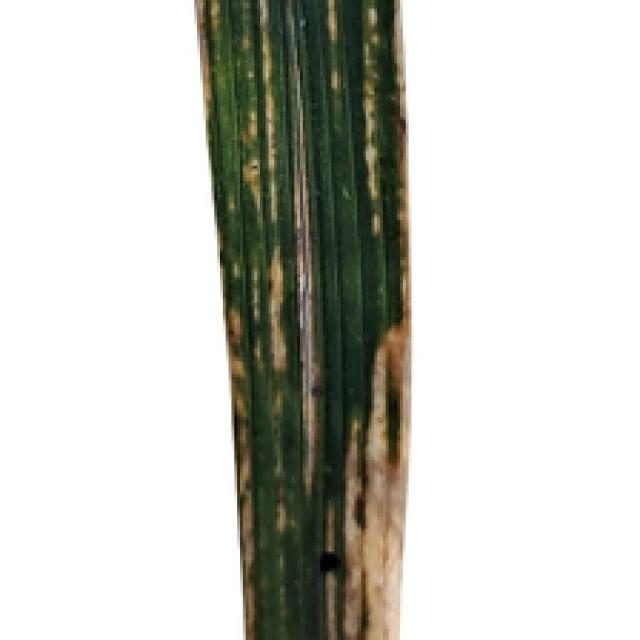Rice___Bacterial_Leaf_Blight: (195, 0, 414, 637)
